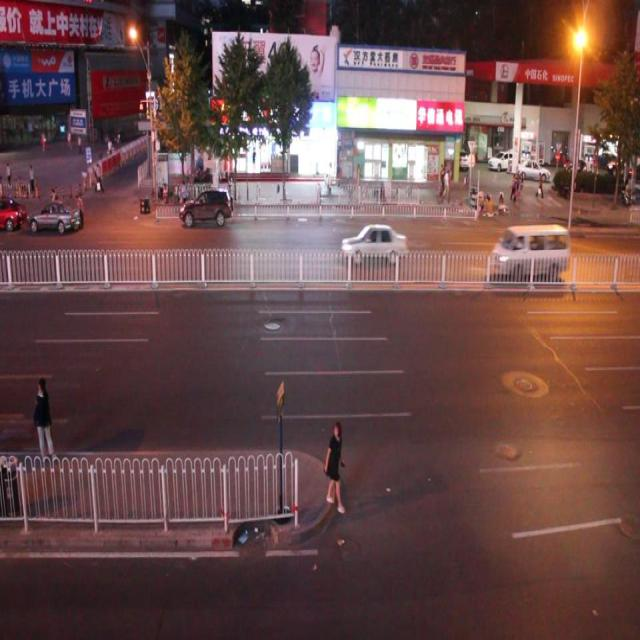car: (341, 221, 407, 266), (180, 177, 234, 221), (28, 191, 83, 231)
truck: (490, 224, 569, 277)
